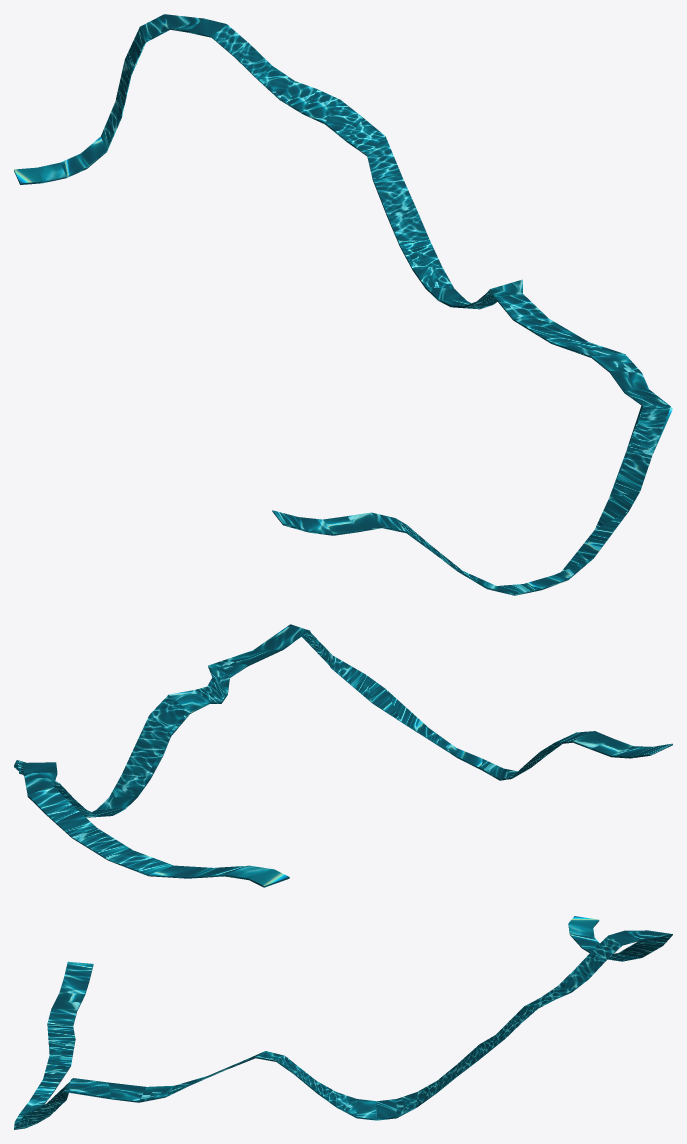
Rendered from water.glb.
The picture shows the model from 3 angles, top to bottom: view 1: azimuth 30°, elevation 25°; view 2: azimuth 150°, elevation 25°; view 3: azimuth 270°, elevation 25°; orthographic projection. The views are drawn at different scales.
Visible parts, largest first — view 1: water; view 2: water; view 3: water.
Boxes of the visible parts, box(x1,y1,x2,y2) form: water: box(14, 14, 672, 595); water: box(14, 624, 672, 887); water: box(14, 916, 672, 1129).
Bounding box in the file's own units: 368 × 232 × 665.
1 material, 1 textured.
